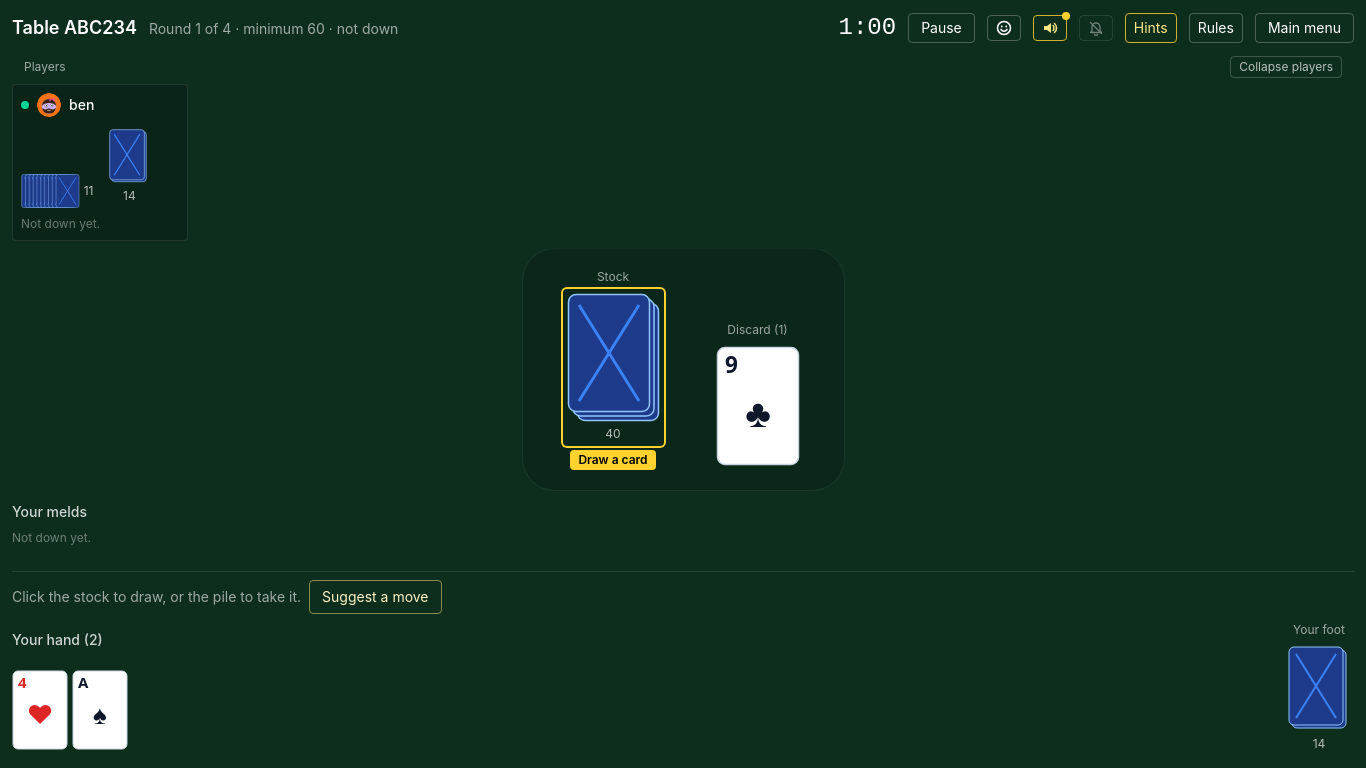
Test: collapsing the other seats on a computer › shows them in full by default, and as chips once collapsed, remembering the choice
Click the button "Collapse players" at (1286, 67), box [1230,56,1342,78]
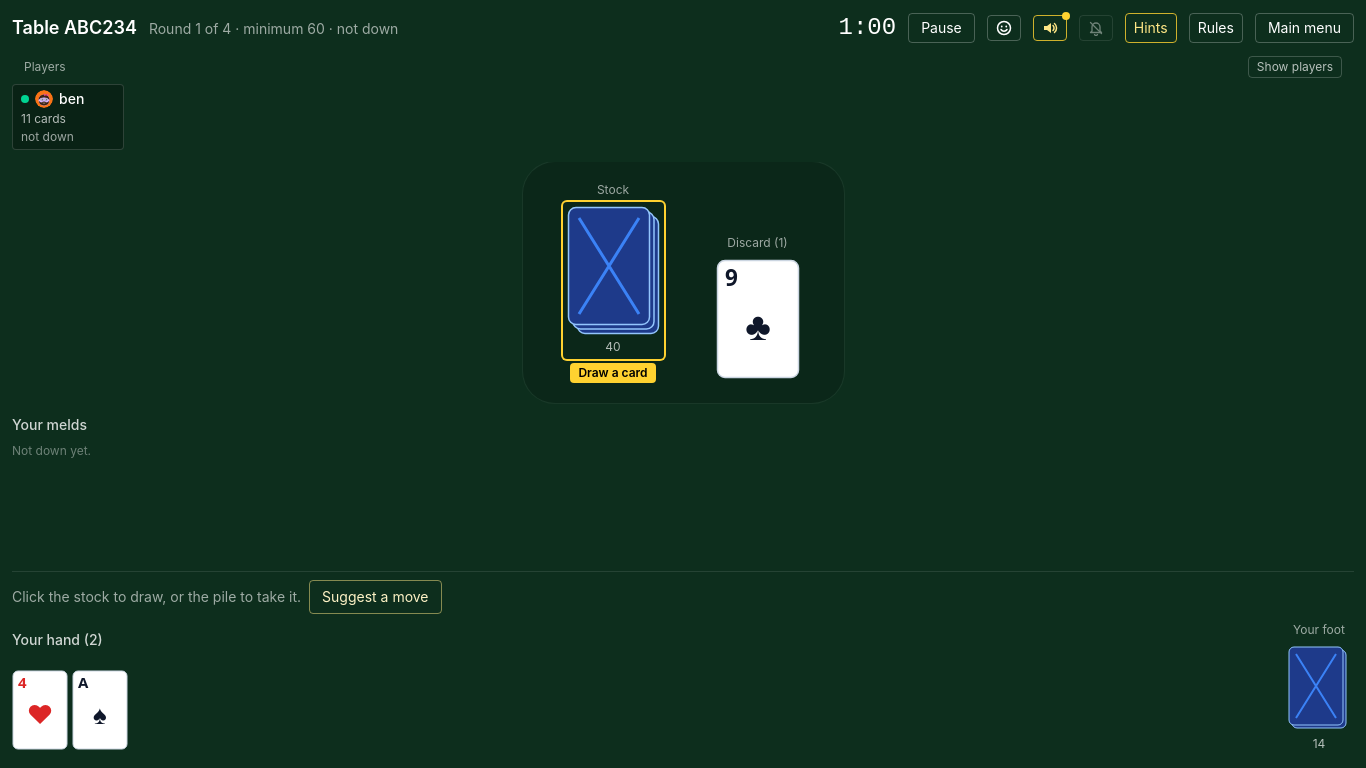
The chip, a tap from the melds, as on a phone.
Click the button with aria-label "ben, 11 in hand, not down" at (68, 117), box [12,84,124,150]
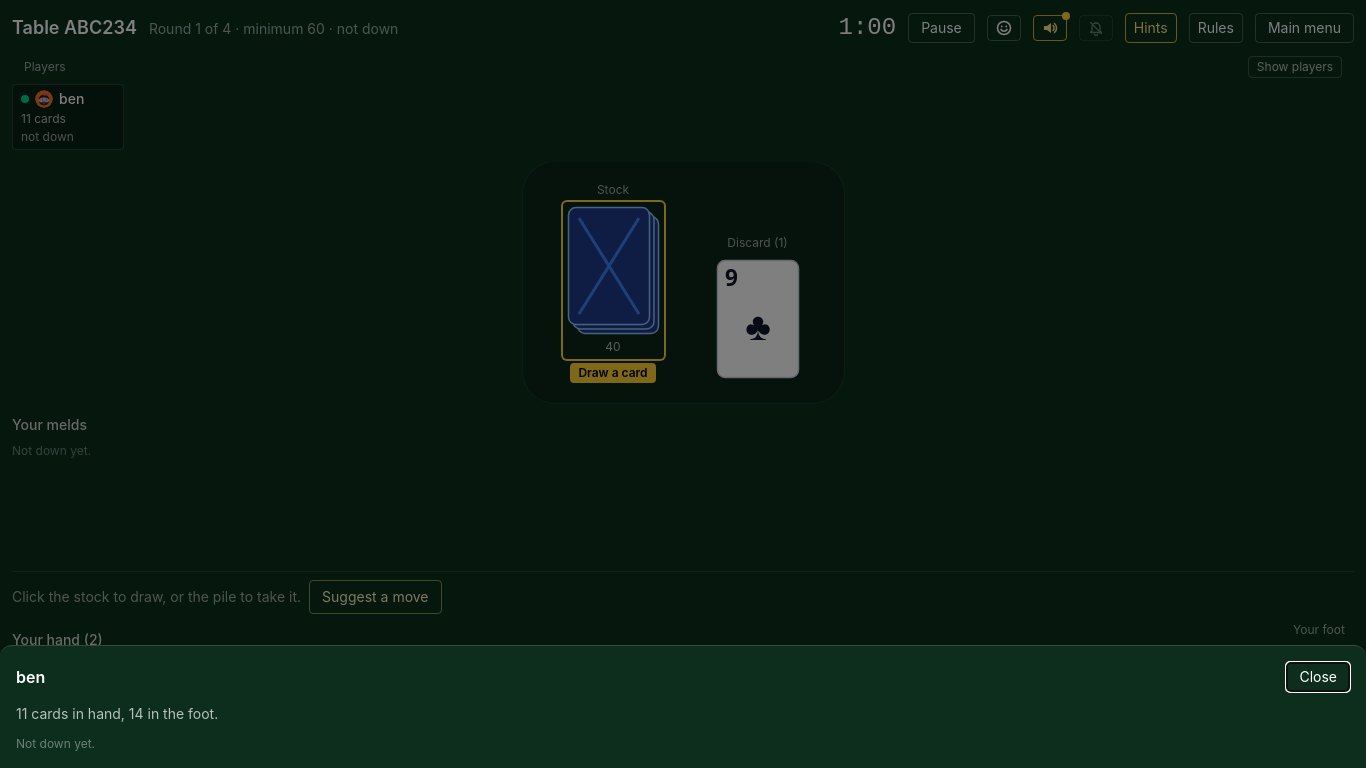
Check: the dialog named "ben's melds" is shown, box [0,645,1365,767]
